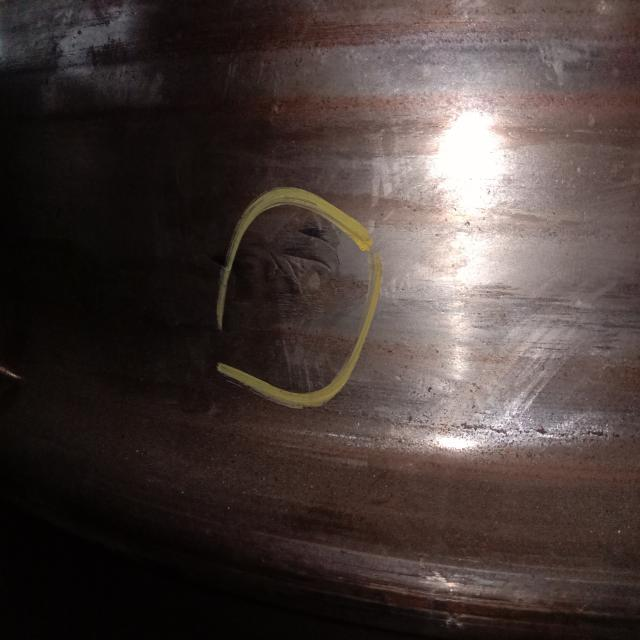Rollerpile: (236, 218, 340, 340)
